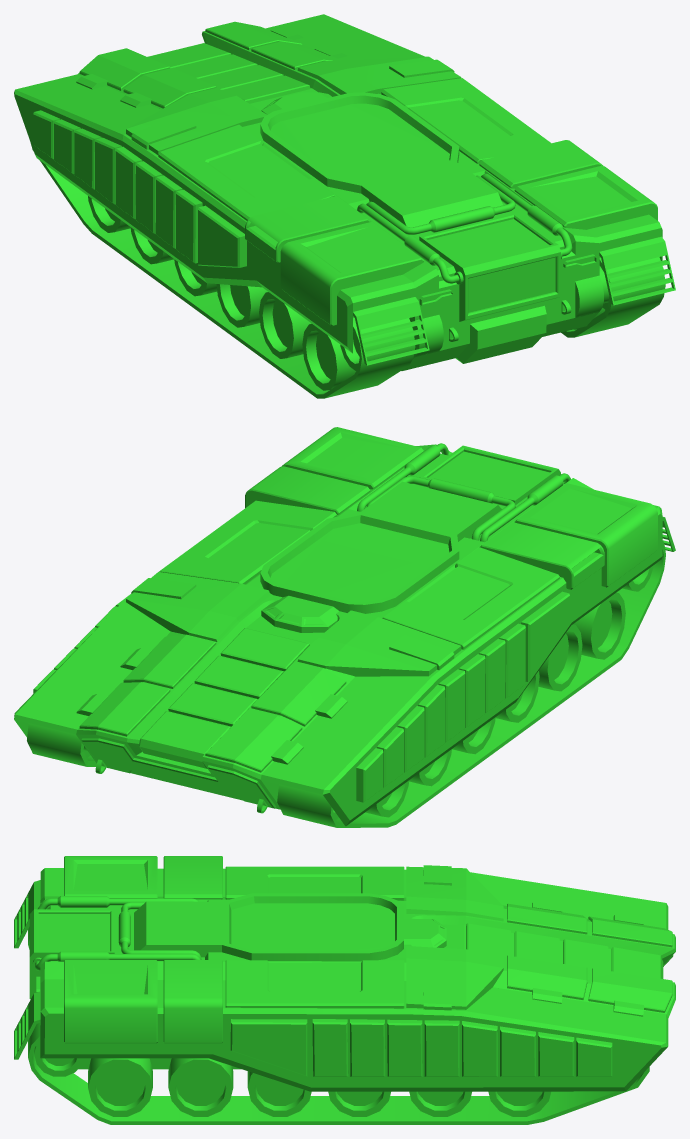
The model's file is EnemyTankBody.fbx.
3 views of the same model, one above another, from view 1: azimuth 30°, elevation 25°; view 2: azimuth 150°, elevation 25°; view 3: azimuth 270°, elevation 25° (orthographic). The views are drawn at different scales.
Visible parts, largest first — view 1: TankBottom; view 2: TankBottom; view 3: TankBottom.
Boxes of the visible parts, x1,y1,x2,y2 form: TankBottom: (14,14,675,398); TankBottom: (14,427,675,827); TankBottom: (14,856,675,1124).
Size of the model in its own units: 0.8963 by 0.3697 by 1.67.
